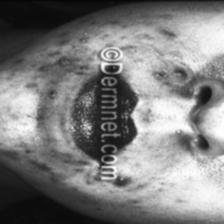Non-Cancerous Skin Condition: (36, 36, 90, 72), (30, 148, 84, 182), (48, 91, 57, 97)
